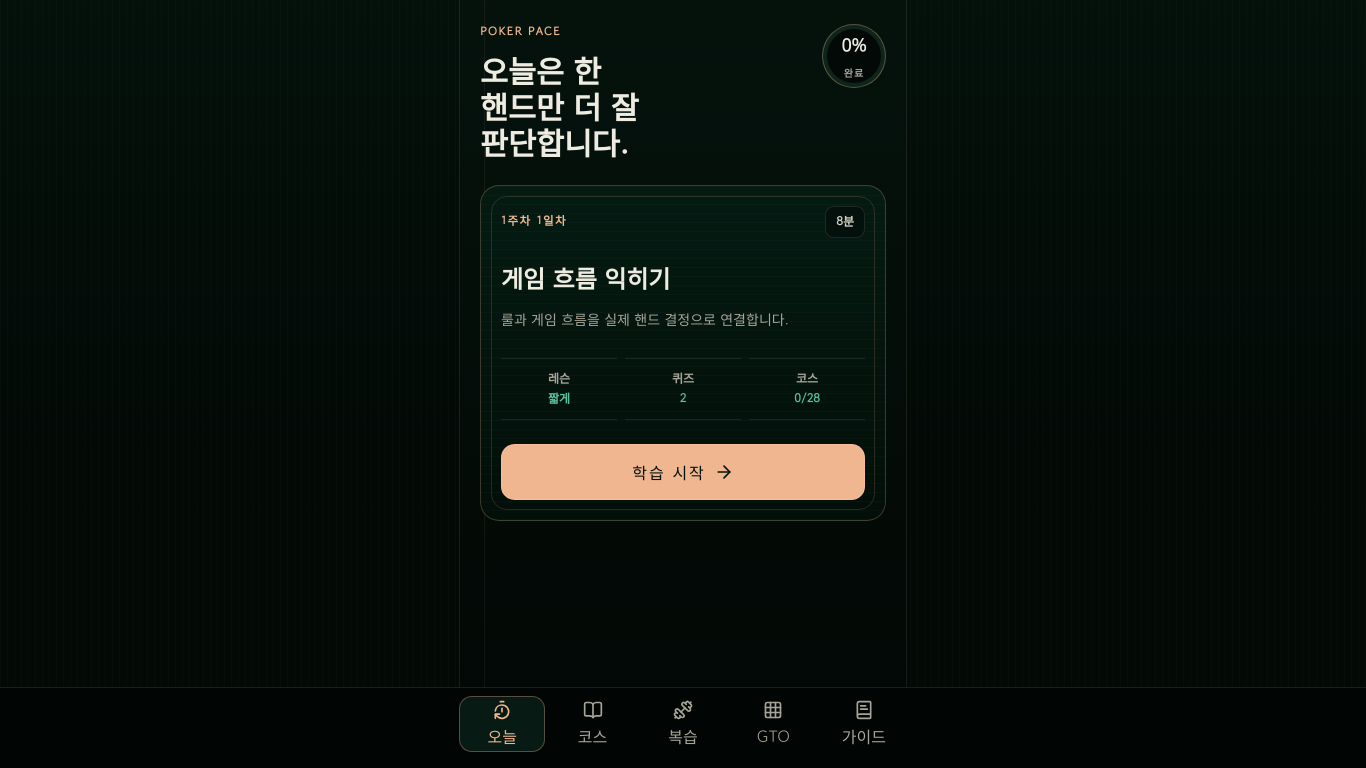
Test: Poker Pace app › shows an empty guide search state
This screenshot has width=1366, height=768.
Click the button "가이드": (864, 724) [821,696,907,752]
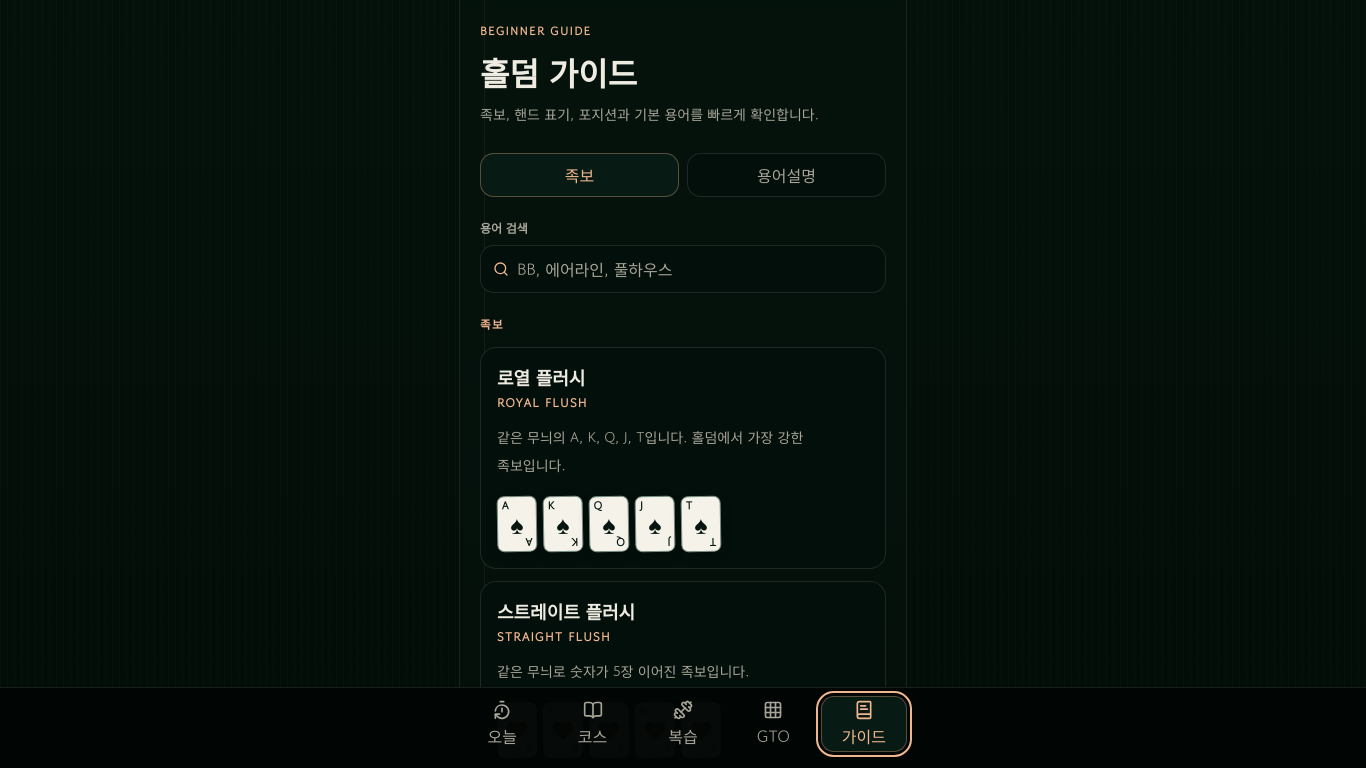
In the search field labelled "용어 검색": (695, 269) [517,257,873,281], type "없는용어"
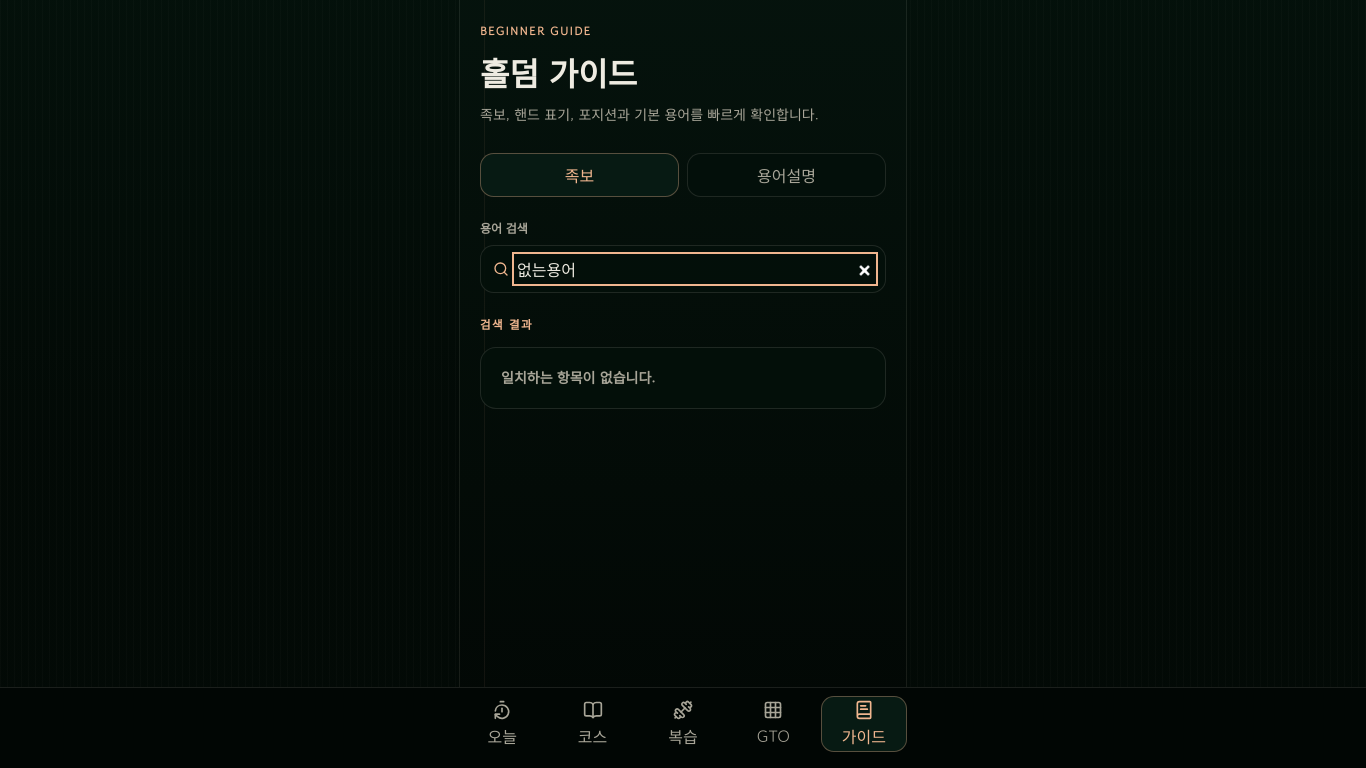
Expected: the text "일치하는 항목이 없습니다." is shown, [480,346,886,408]
